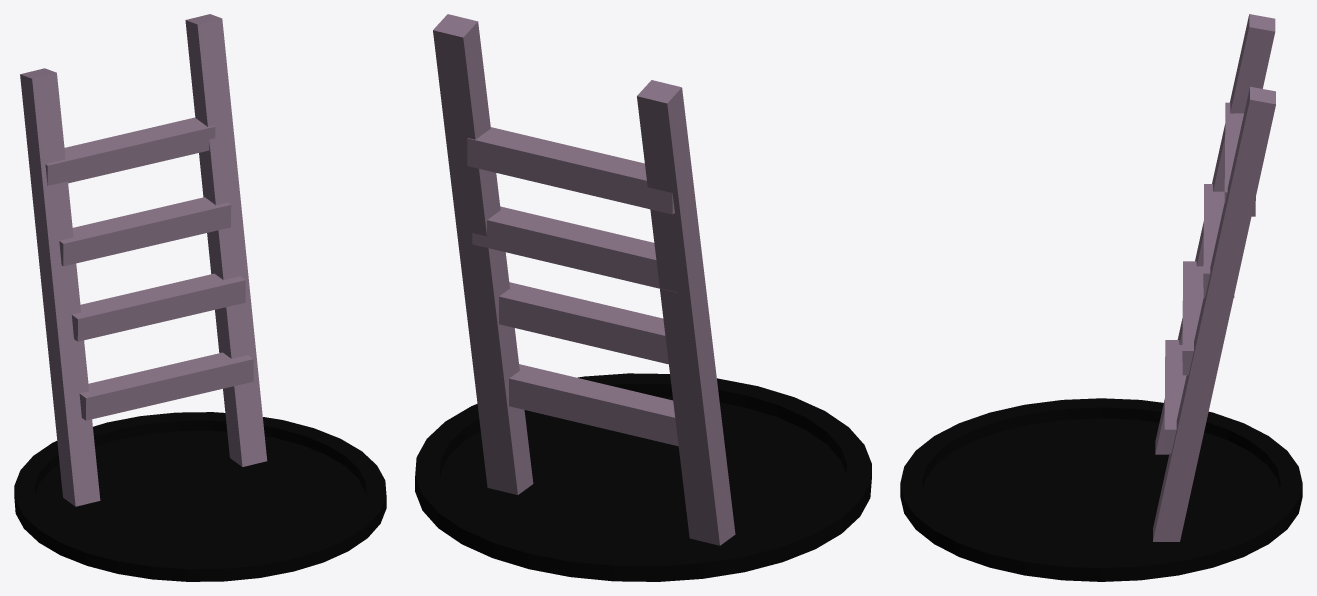
Rendered from obstacle_escalator.glb.
The picture shows the model from 3 angles, left to right: view 1: azimuth 30°, elevation 25°; view 2: azimuth 150°, elevation 25°; view 3: azimuth 270°, elevation 25°; orthographic projection. The views are drawn at different scales.
Visible parts, largest first — view 1: Cube.006; view 2: Cube.006; view 3: Cube.006.
Part boxes in pixels (x1,y1,x2,y2): Cube.006: (14,14,386,581); Cube.006: (415,14,871,581); Cube.006: (900,14,1302,581).
Bounding box in the file's own units: 1.1 × 1.39 × 1.1.
